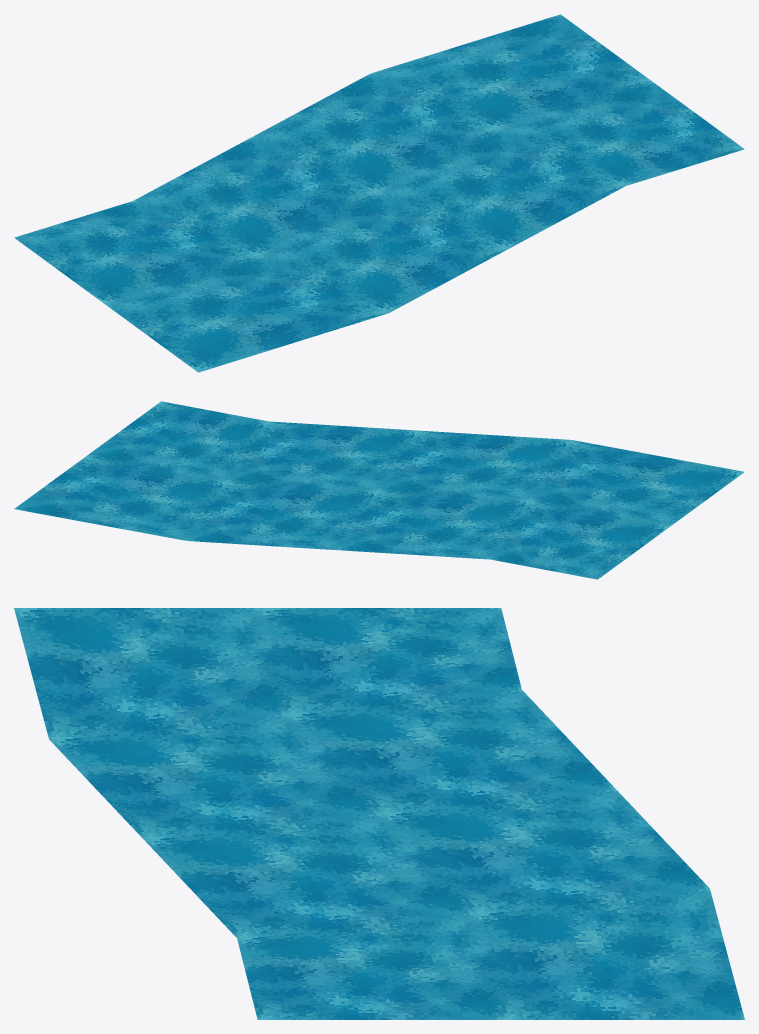
Rendered from Terrain_Water_River_Esse_CCW_3x4.glb.
3 views of the same model, one above another, from view 1: azimuth 30°, elevation 25°; view 2: azimuth 150°, elevation 25°; view 3: azimuth 270°, elevation 25° (orthographic). The views are drawn at different scales.
Visible parts, largest first — view 1: Terrain_Water_River_Esse_CCW_3x4; view 2: Terrain_Water_River_Esse_CCW_3x4; view 3: Terrain_Water_River_Esse_CCW_3x4.
Part boxes in pixels (x1,y1,x2,y2): Terrain_Water_River_Esse_CCW_3x4: (14,14,744,372); Terrain_Water_River_Esse_CCW_3x4: (14,401,744,579); Terrain_Water_River_Esse_CCW_3x4: (14,608,744,1019).
Bounding box in the file's own units: 4 × 1.43e-06 × 3.
1 material, 1 textured.
